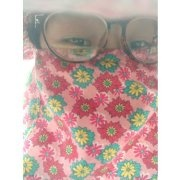Mask: (38, 13, 170, 144)
